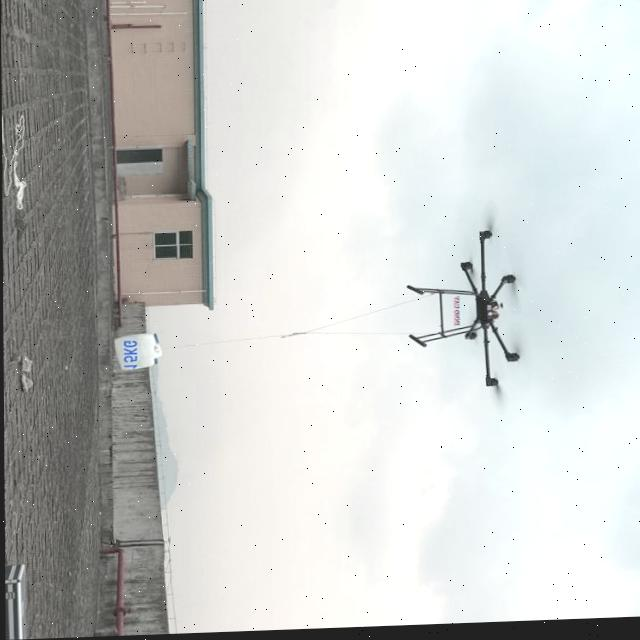drone: (411, 217, 540, 412)
